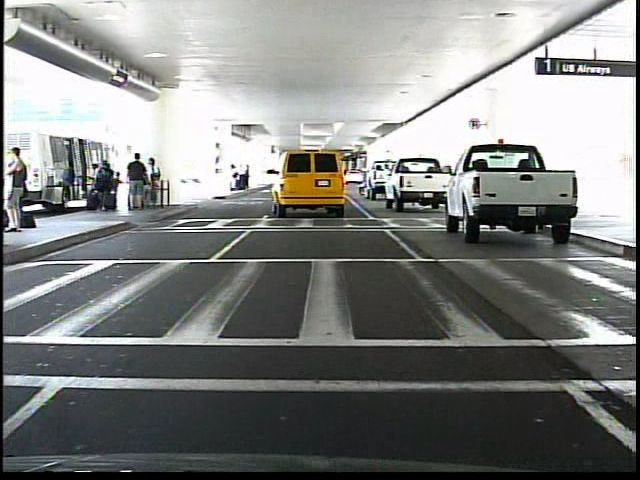person: (11, 145, 34, 231)
